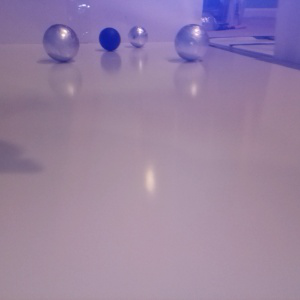alive_ball: (43, 24, 80, 62), (174, 24, 209, 61), (128, 26, 148, 48)
dead_ball: (99, 27, 121, 51)
